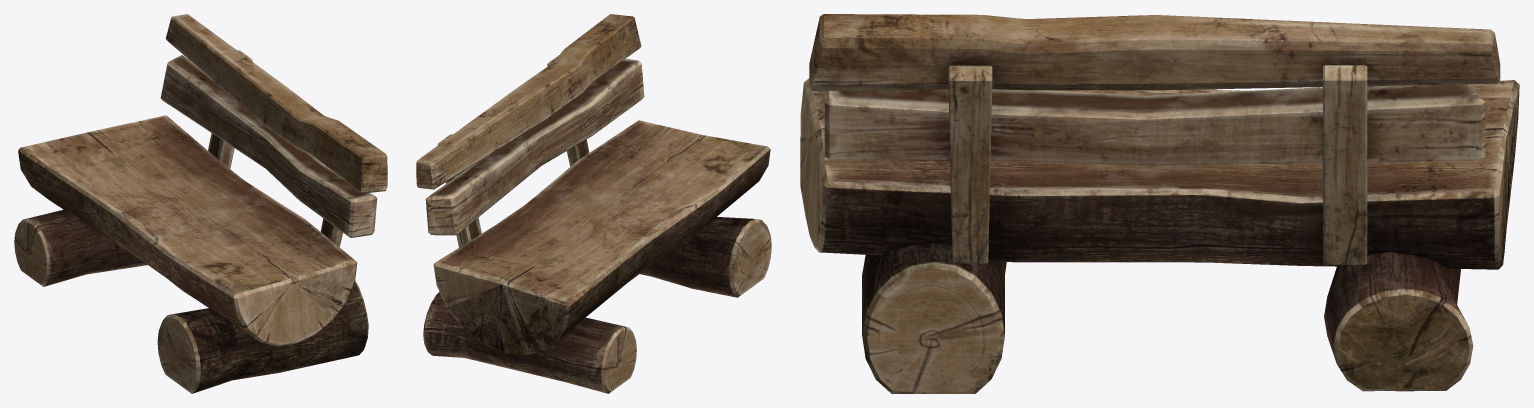
File: SM_Bench.fbx
3 renders of one model, left to right at view 1: azimuth 30°, elevation 25°; view 2: azimuth 150°, elevation 25°; view 3: azimuth 270°, elevation 25°, orthographic. The views are drawn at different scales.
Parts seen in each view (by area): view 1: SM_Bench_LOD0; view 2: SM_Bench_LOD0; view 3: SM_Bench_LOD0.
Part boxes in pixels (<box>): SM_Bench_LOD0: <box>14,14,387,393</box>; SM_Bench_LOD0: <box>416,14,771,393</box>; SM_Bench_LOD0: <box>800,14,1519,393</box>.
Bounding box in the file's own units: 123 × 229 × 129.
